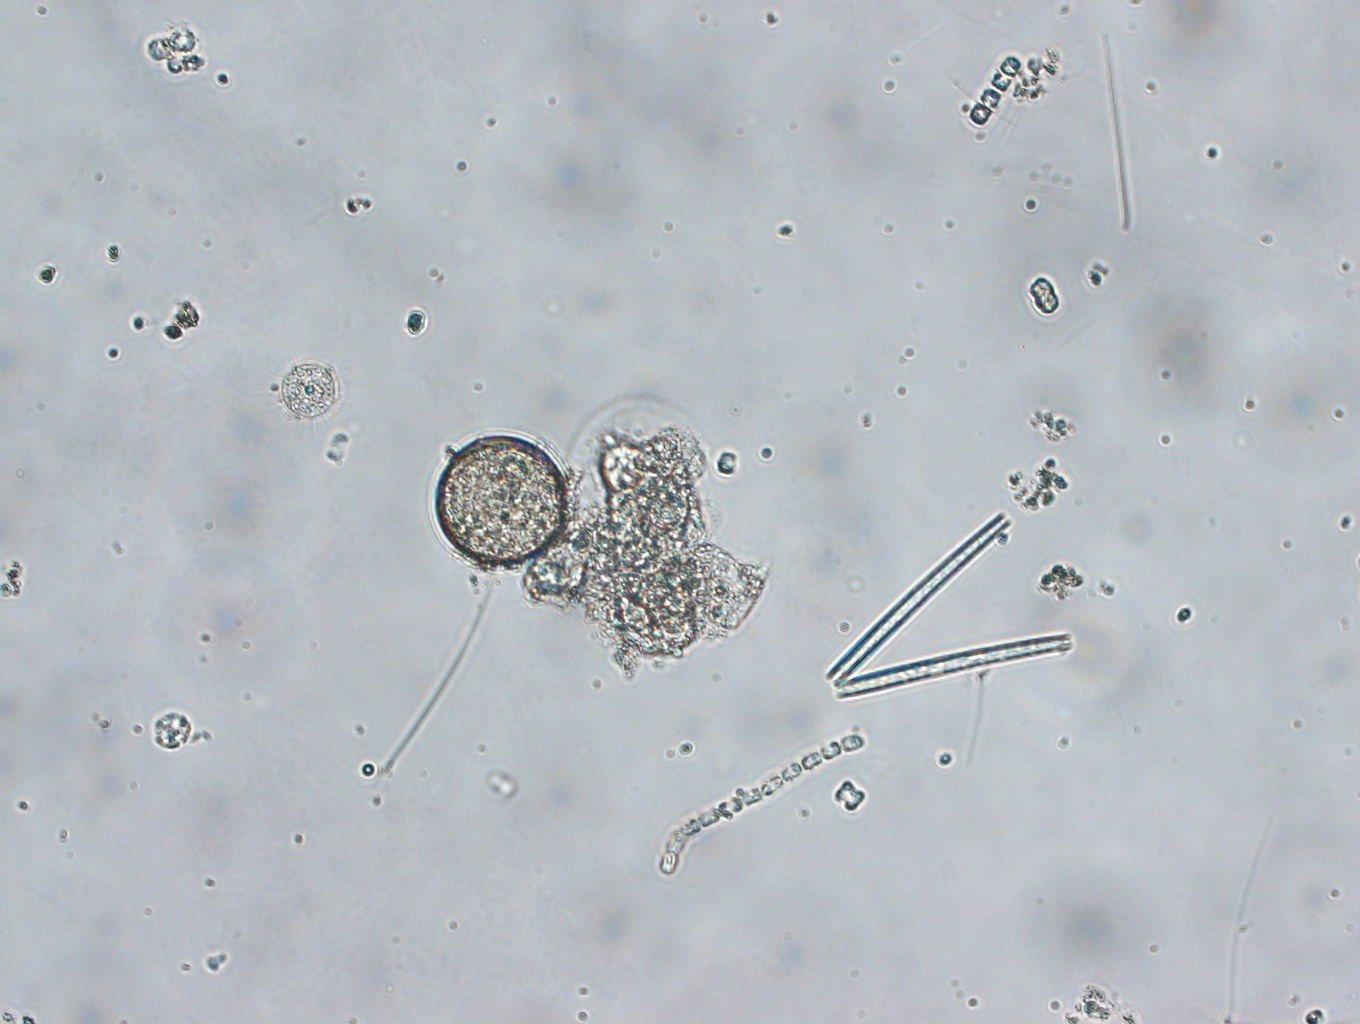coscinodiscus: (431, 424, 577, 570)
skeletonema: (648, 716, 867, 873), (950, 42, 1025, 134)
thalassionema frauenfeldii: (822, 502, 1075, 705)
